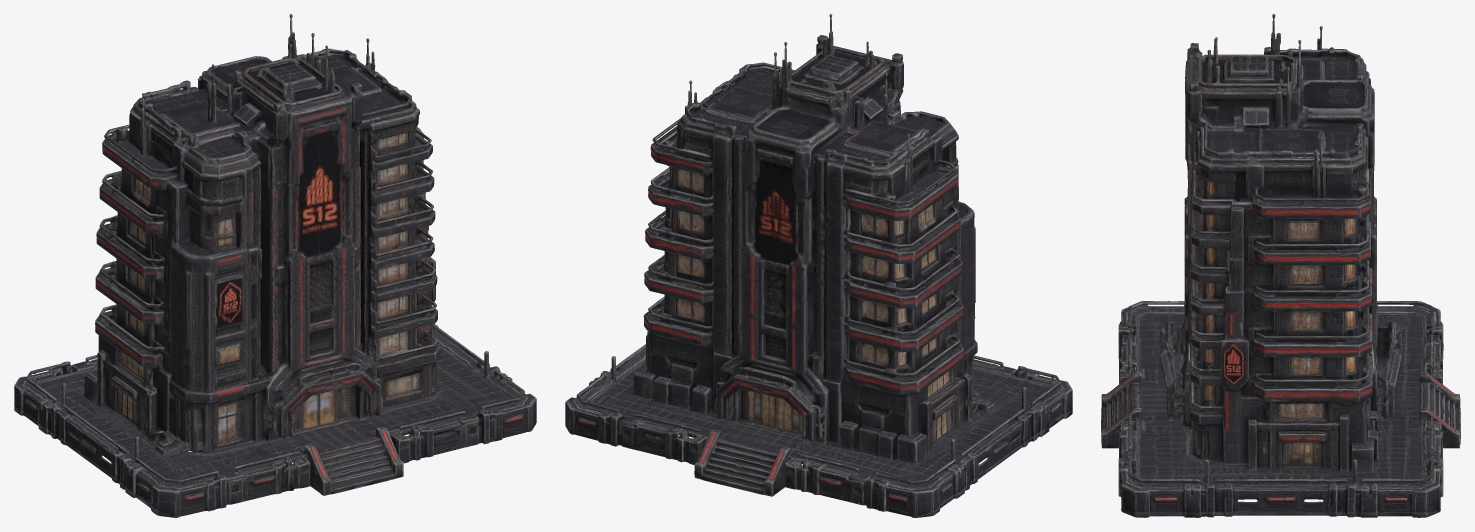
The model's file is neonCitadel_LOD1.glb.
The picture shows the model from 3 angles, left to right: view 1: azimuth 30°, elevation 25°; view 2: azimuth 150°, elevation 25°; view 3: azimuth 270°, elevation 25°; orthographic projection. The views are drawn at different scales.
Parts seen in each view (by area): view 1: Mesh_0.007; view 2: Mesh_0.007; view 3: Mesh_0.007.
Part boxes in pixels (x1=…): Mesh_0.007: x1=14, y1=14, x2=536, y2=517; Mesh_0.007: x1=565, y1=14, x2=1072, y2=517; Mesh_0.007: x1=1101, y1=14, x2=1460, y2=517.
Size of the model in its own units: 1.9 by 1.89 by 1.54.
1 material, 1 textured.
